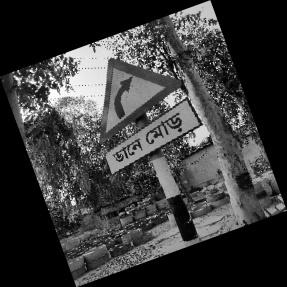Right-turn: (99, 57, 203, 179)
